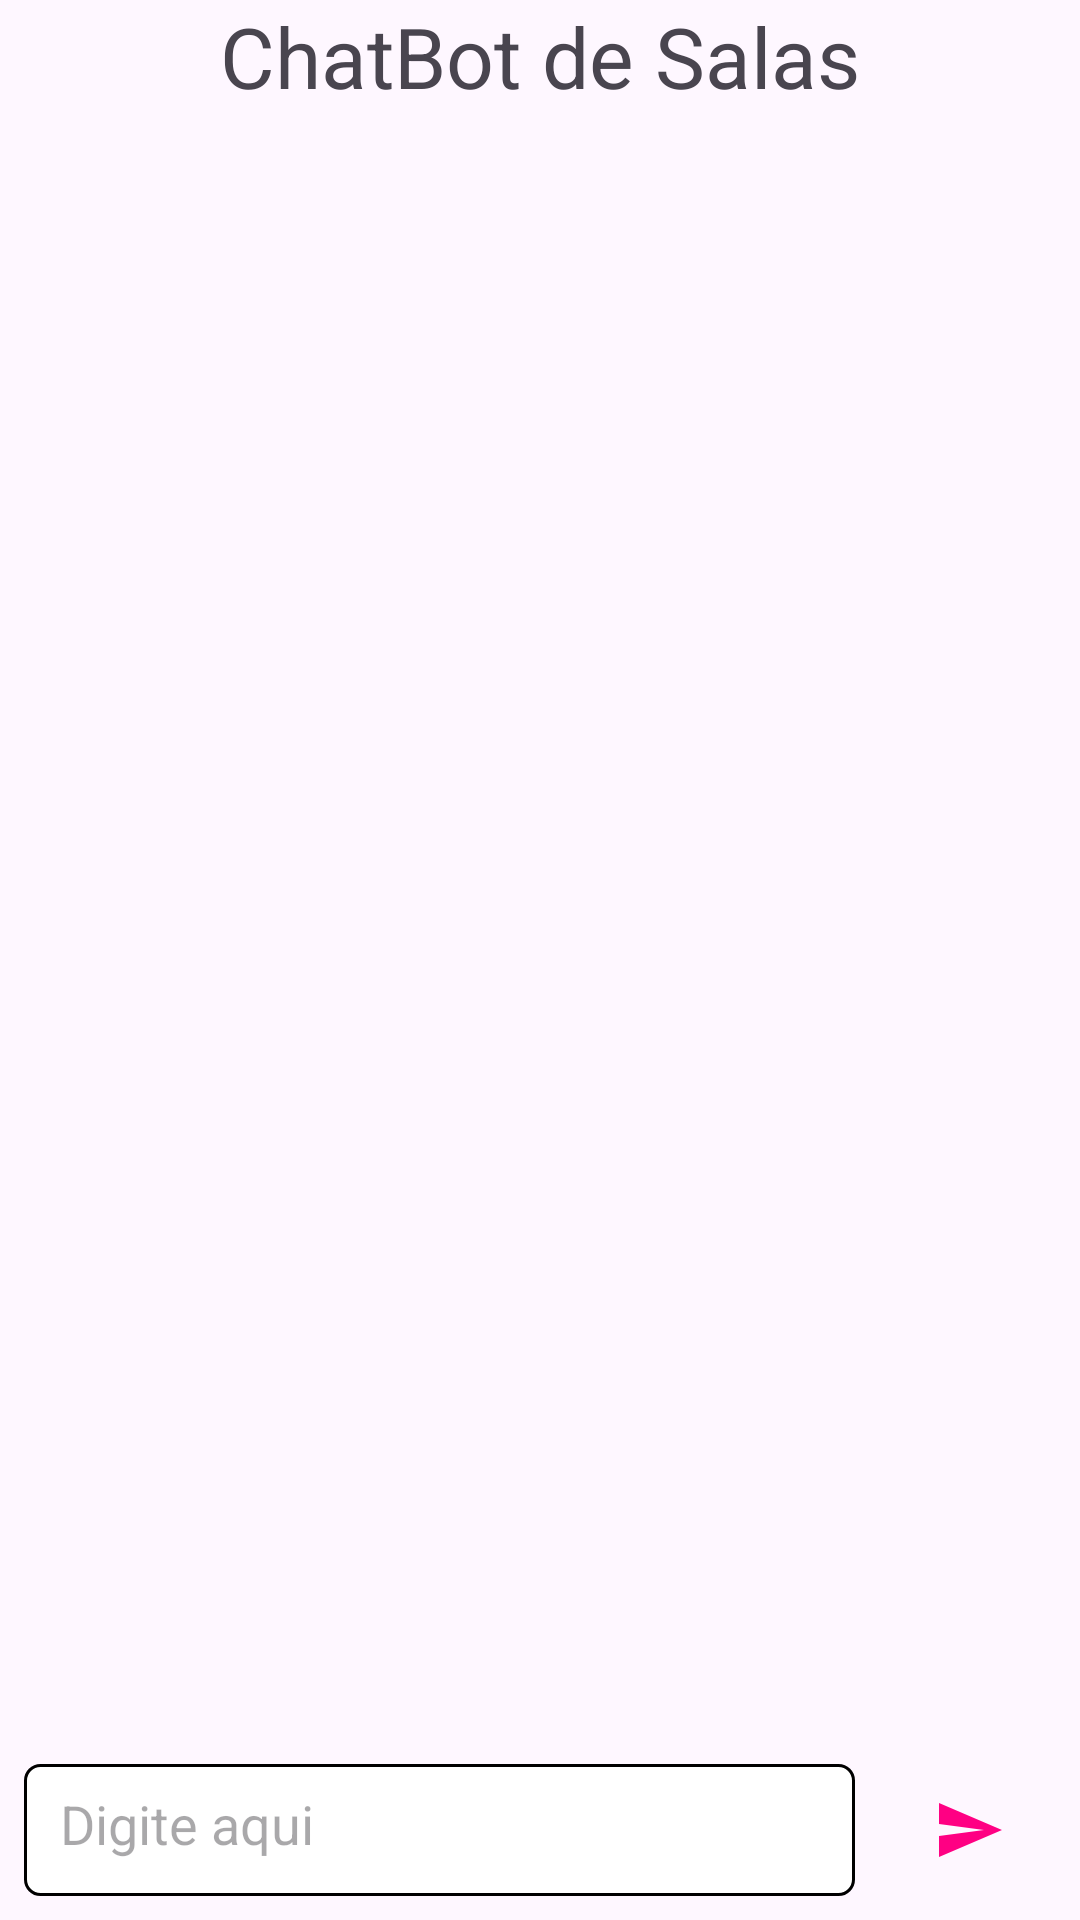

Named icons in this screenshot (1080x1920) and their bounding boxes, (x1, y1, x2, y2):
send: (939, 1803, 1002, 1857)
